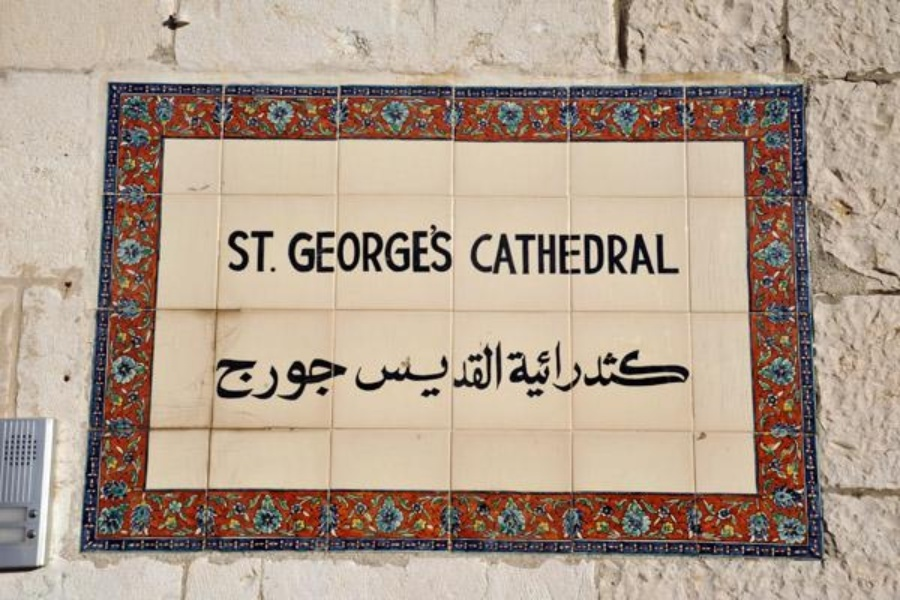text: (513, 338, 528, 401), (529, 338, 544, 401), (545, 338, 560, 401), (561, 338, 576, 401), (577, 338, 592, 401), (593, 338, 608, 401), (609, 338, 624, 401), (625, 338, 640, 401), (641, 338, 656, 401), (657, 338, 672, 401), (673, 338, 688, 401), (369, 341, 384, 401), (385, 341, 400, 401), (401, 341, 416, 401), (417, 341, 432, 401), (433, 341, 448, 401), (449, 341, 464, 401), (465, 341, 480, 401), (481, 341, 496, 401), (289, 223, 304, 277), (305, 223, 320, 277), (321, 223, 336, 277), (337, 223, 352, 277), (353, 223, 368, 277), (369, 223, 384, 277), (385, 223, 400, 277), (401, 223, 416, 277), (417, 223, 432, 277), (433, 223, 448, 277), (355, 341, 368, 401), (225, 355, 240, 403), (241, 355, 256, 403), (257, 355, 272, 403), (273, 355, 288, 403), (289, 355, 304, 403), (305, 355, 320, 403), (321, 355, 336, 403), (481, 230, 496, 278), (497, 230, 512, 278), (513, 230, 528, 278), (529, 230, 544, 278), (545, 230, 560, 278), (561, 230, 576, 278), (577, 230, 592, 278), (593, 230, 608, 278), (609, 230, 624, 278), (625, 230, 640, 278), (641, 230, 656, 278), (657, 230, 672, 278), (241, 227, 256, 275), (257, 227, 272, 275), (227, 227, 240, 275), (337, 355, 349, 403), (214, 355, 224, 403), (470, 230, 480, 278), (673, 230, 683, 278), (497, 341, 503, 401), (449, 223, 455, 277), (273, 227, 278, 275), (689, 338, 691, 401), (286, 223, 288, 277), (511, 338, 512, 401)
